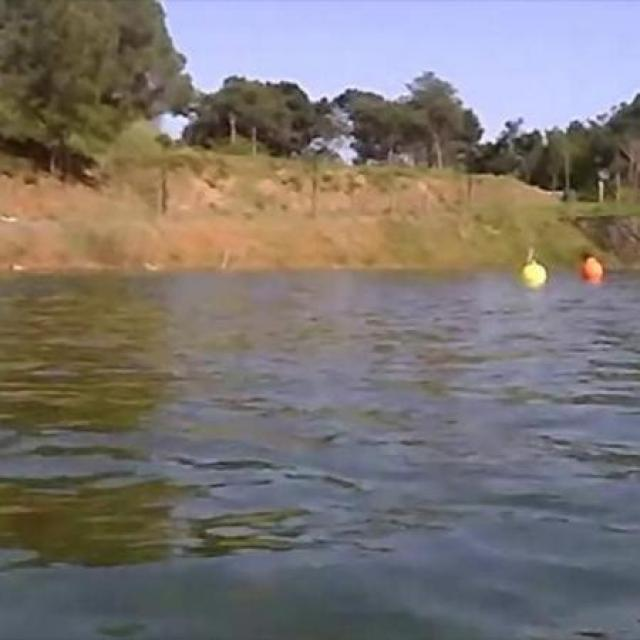buoy: (524, 260, 548, 286), (582, 256, 604, 282)
